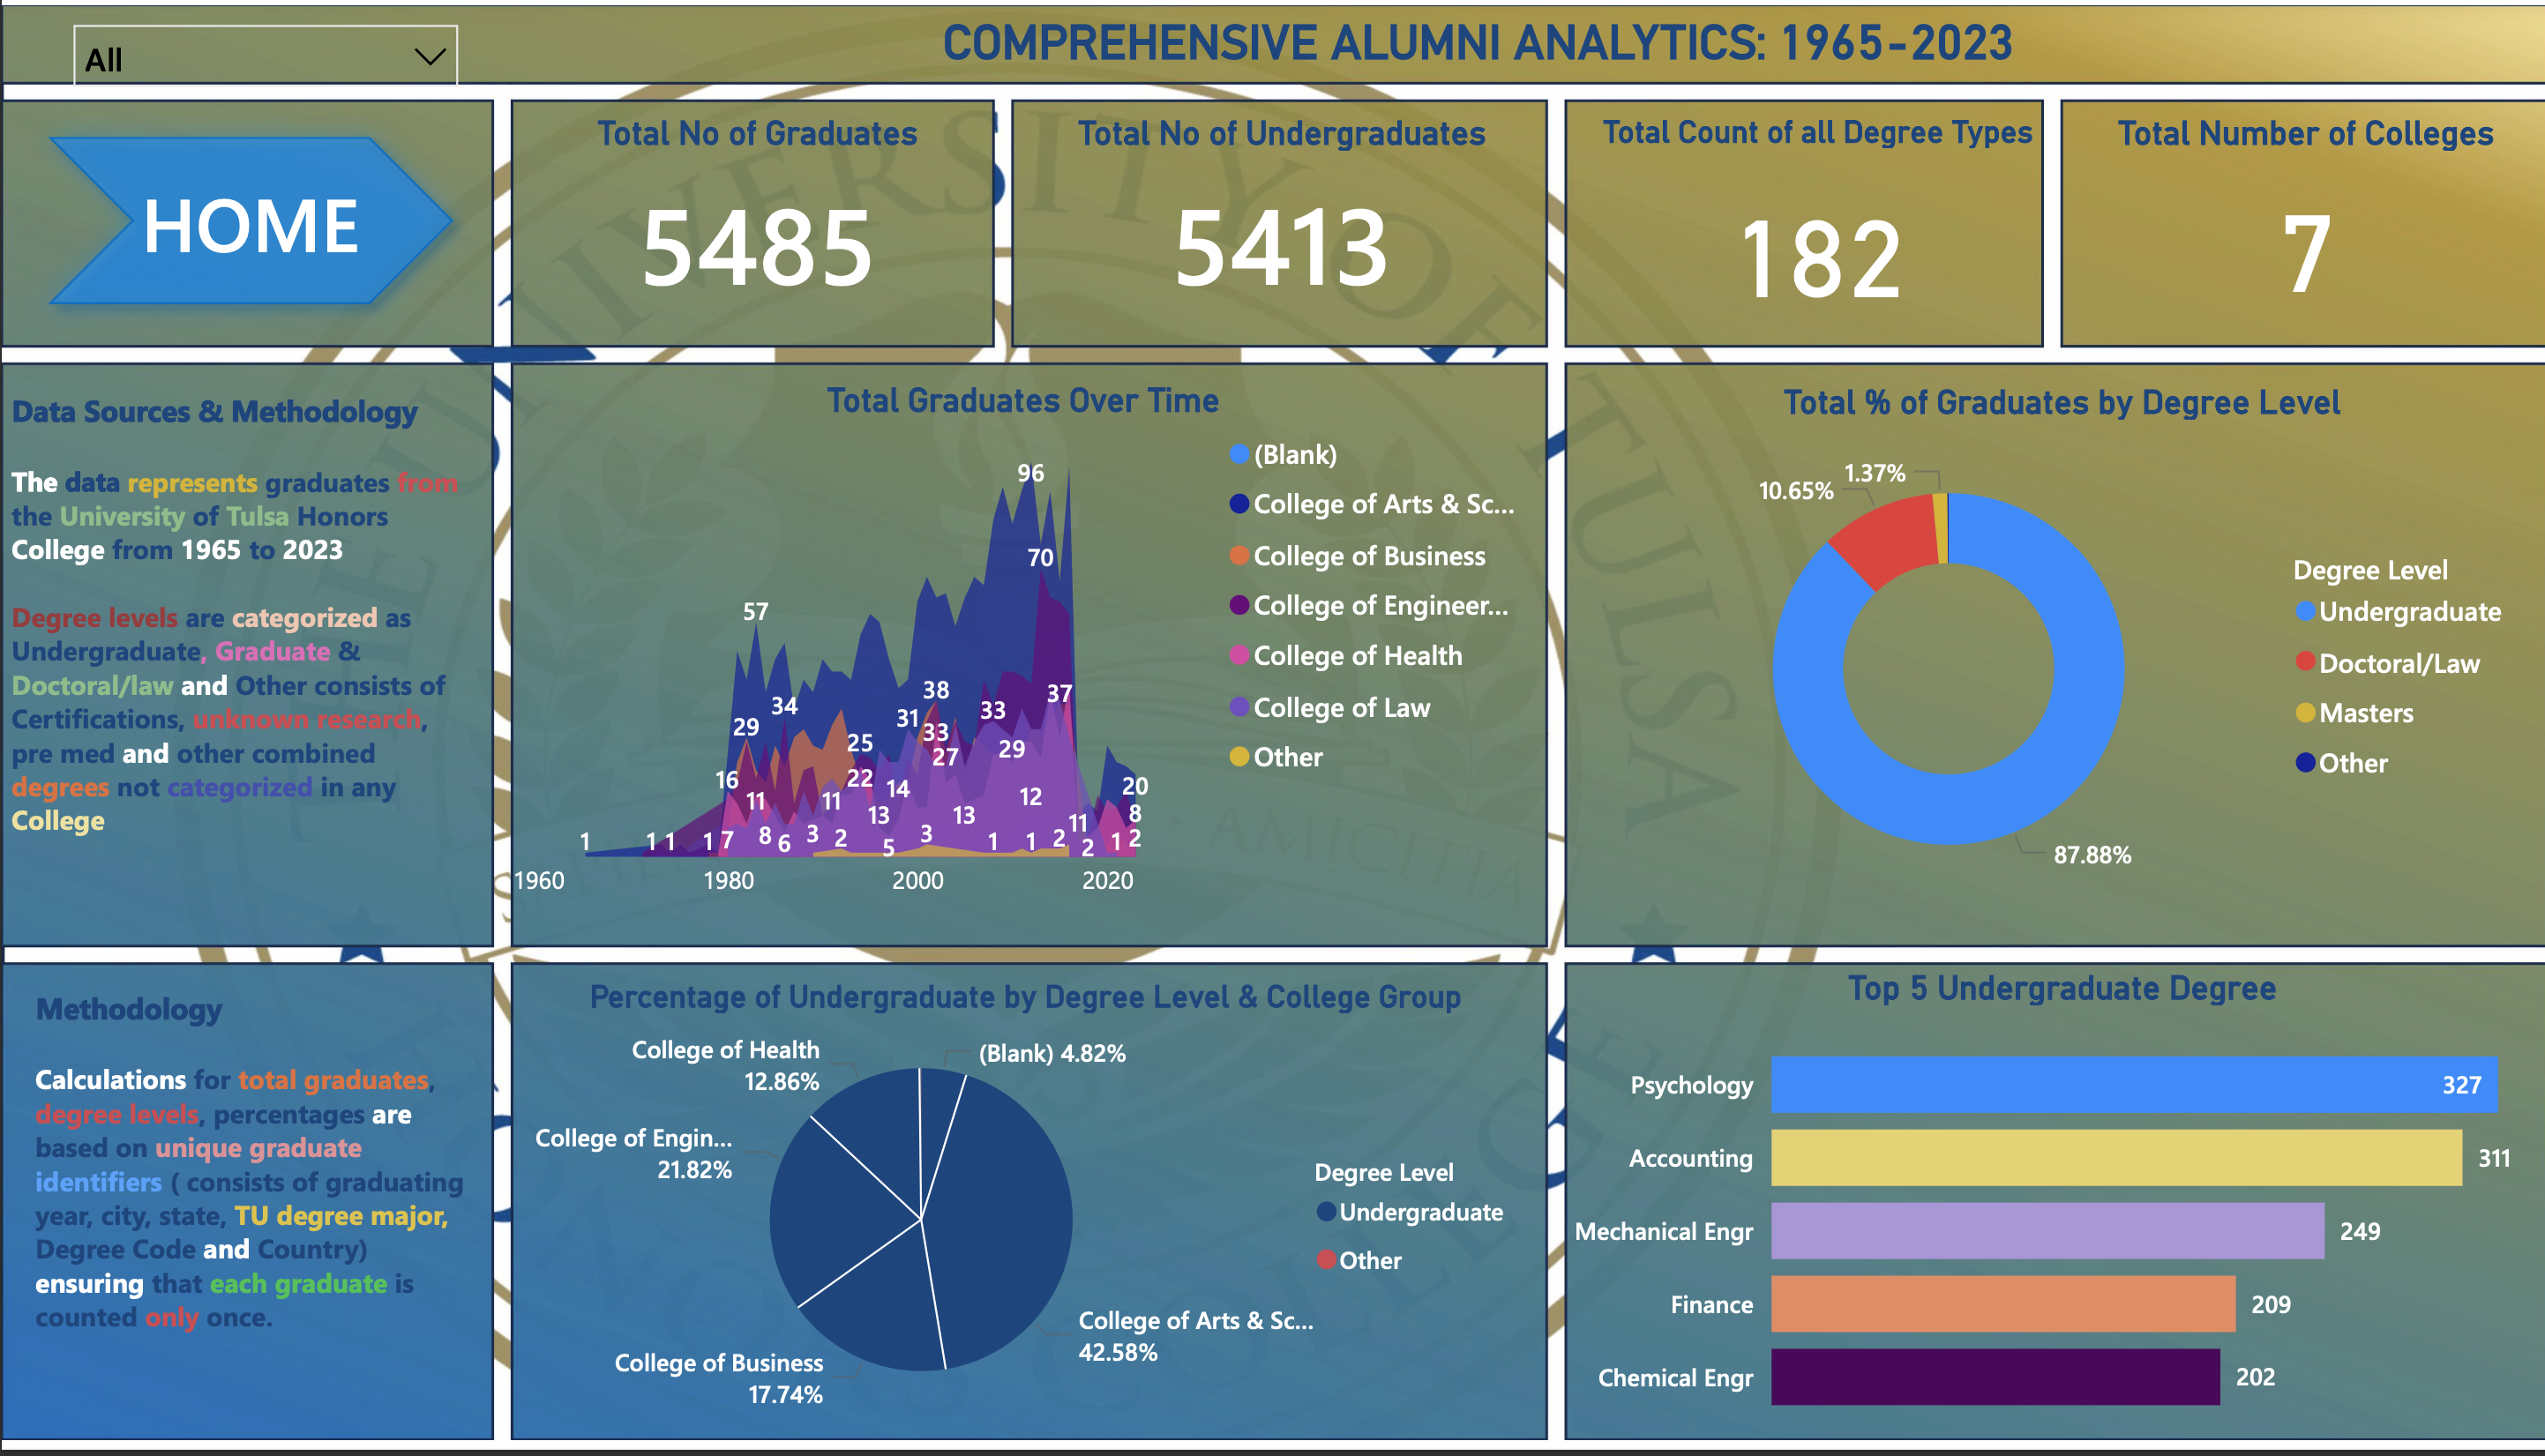

The page's visual inventory and layout, read from the dashboard file:
{"tool":"powerbi","page":{"name":"Page 1","canvas":[1280,720],"ordinal":0},"visuals":[{"type":"textbox","box":[201.9,0,1078.1,36.1],"z":0},{"type":"card","title":"Total No of Graduates","fields":{"Values":["Table1.Total Graduates"]},"box":[264.6,54.5,228.6,108],"z":1000},{"type":"card","title":"Total No of Undergraduates","fields":{"Values":["Table1.Undergraduate Graduates"]},"box":[513.6,54.2,256.8,108.3],"z":2000},{"type":"lineChart","title":"Total Graduates Over Time","fields":{"Category":["Table1.Graduating Year"],"Y":["CountNonNull(Table1.Unique Graduate Identifier)"],"Series":["Table1.College Group"]},"box":[251.5,188.3,523.3,269.5],"z":3000},{"type":"donutChart","title":"Total % of Graduates by Degree Level","fields":{"Category":["Table1.Degree Level"],"Y":["Table1.Total Graduates"]},"box":[798.5,188.7,469.8,269.4],"z":4000},{"type":"clusteredBarChart","title":"Top 5 Undergraduate Degree","fields":{"Category":["Table1.TU Degree 1 Major 1"],"Y":["Table1.Undergraduate Graduates"]},"box":[787.8,483.4,492.2,235.4],"z":5000},{"type":"pieChart","title":"Percentage of Undergraduate by Degree Level & College Group","fields":{"Y":["Table1.Undergraduate Graduates"],"Category":["Table1.Degree Level"],"Series":["Table1.College Group"]},"box":[258.7,488.3,509.7,224.7],"z":6000},{"type":"card","title":"Total Count of all Degree Types","fields":{"Values":["Count(Table1.TU Degree 1 Major 1)"]},"box":[798.5,54.1,226.7,113.9],"z":7000},{"type":"textbox","box":[0,188.3,240.2,269.5],"z":8000},{"type":"textbox","box":[12,488,229,225],"z":9000},{"type":"shape","box":[11.3,54.1,227.8,108.3],"z":10000},{"type":"card","title":"Total Number of Colleges","fields":{"Values":["Count(Table1.College Group)"]},"box":[1044.3,54.1,224.4,108.3],"z":11000},{"type":"slicer","title":"Graduating Year","fields":{"Values":["Table1.Graduating Year"]},"box":[25.9,0,213.2,46.2],"z":12000}]}

Visuals, with their boxes in screenshot pixels (x1, y1, x2, y2), scaled from the page's 1280x720 canvas onto the 2545x1456 screenshot:
textbox: [left=401, top=0, right=2544, bottom=73]
"Total No of Graduates" card: [left=526, top=110, right=981, bottom=329]
"Total No of Undergraduates" card: [left=1022, top=109, right=1531, bottom=329]
"Total Graduates Over Time" lineChart: [left=500, top=381, right=1540, bottom=926]
"Total % of Graduates by Degree Level" donutChart: [left=1588, top=382, right=2522, bottom=926]
"Top 5 Undergraduate Degree" clusteredBarChart: [left=1567, top=977, right=2544, bottom=1453]
"Percentage of Undergraduate by Degree Level & College Group" pieChart: [left=514, top=988, right=1528, bottom=1442]
"Total Count of all Degree Types" card: [left=1588, top=109, right=2039, bottom=340]
textbox: [left=0, top=381, right=477, bottom=926]
textbox: [left=24, top=987, right=479, bottom=1442]
shape: [left=22, top=109, right=475, bottom=328]
"Total Number of Colleges" card: [left=2077, top=109, right=2523, bottom=328]
"Graduating Year" slicer: [left=51, top=0, right=475, bottom=93]
